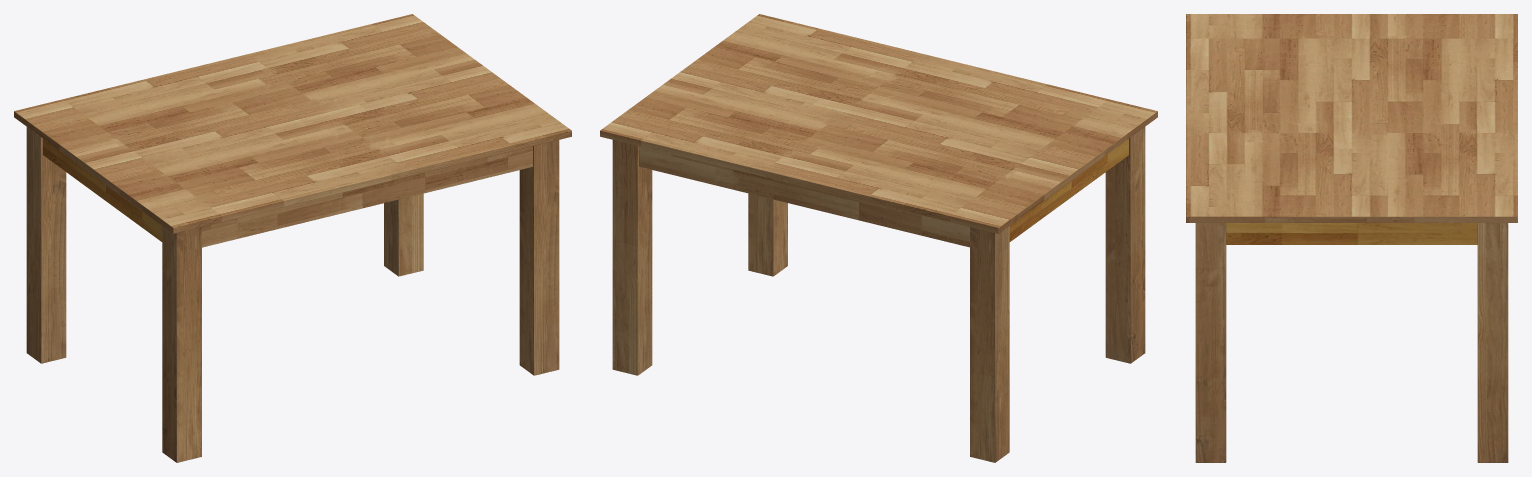
3 views of the same model, side by side, from view 1: azimuth 30°, elevation 25°; view 2: azimuth 150°, elevation 25°; view 3: azimuth 270°, elevation 25° (orthographic). The views are drawn at different scales.
Parts seen in each view (by area): view 1: B07SJ75Y1M; view 2: B07SJ75Y1M; view 3: B07SJ75Y1M.
Part boxes in pixels (x1,y1,x2,y2): B07SJ75Y1M: (14,14,571,462); B07SJ75Y1M: (600,14,1157,462); B07SJ75Y1M: (1186,14,1517,462).
Bounding box in the file's own units: 1.3 × 0.7501 × 0.9.
Materials: 1 (1 with a texture image).
